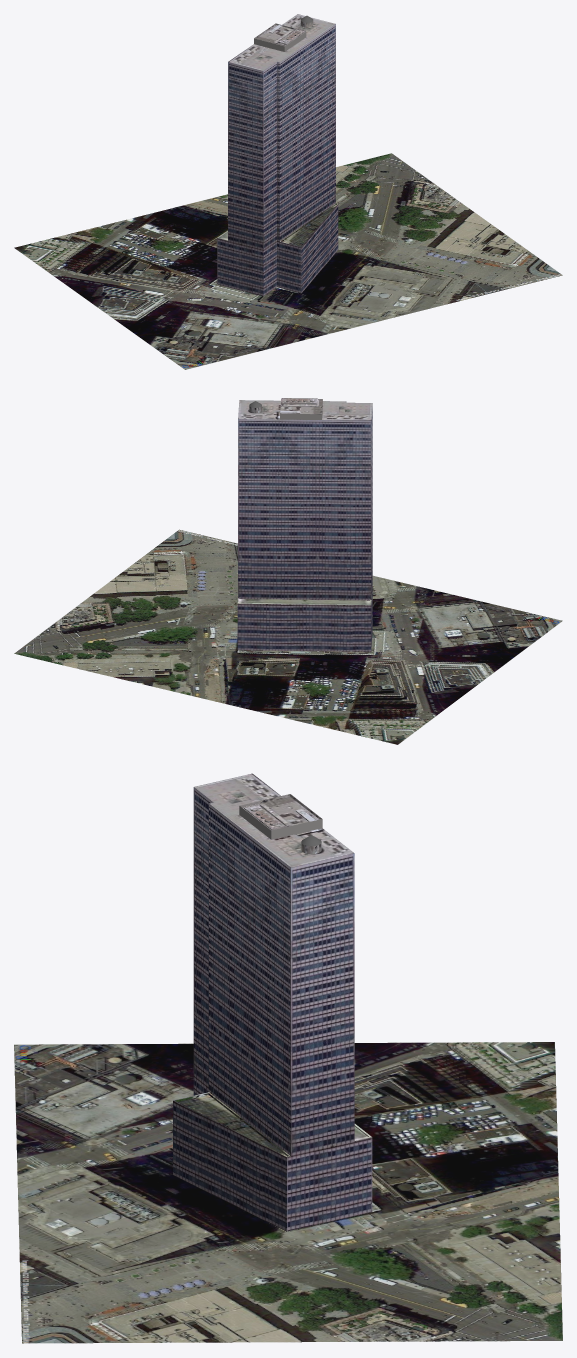
File: vvv.fbx
3 renders of one model, top to bottom at view 1: azimuth 30°, elevation 25°; view 2: azimuth 150°, elevation 25°; view 3: azimuth 270°, elevation 25°, orthographic. The views are drawn at different scales.
Visible parts, largest first — view 1: Google_Earth_Snapshot, G_200_Water_Street1; view 2: Google_Earth_Snapshot, G_200_Water_Street1; view 3: Google_Earth_Snapshot, G_200_Water_Street1.
Part boxes in pixels (box(x1,y1,x2,y2)): Google_Earth_Snapshot: box(14, 153, 562, 369); G_200_Water_Street1: box(217, 14, 338, 296); Google_Earth_Snapshot: box(14, 529, 562, 744); G_200_Water_Street1: box(237, 398, 372, 651); Google_Earth_Snapshot: box(14, 1042, 562, 1343); G_200_Water_Street1: box(173, 773, 372, 1231).
Bounding box in the file's own units: 9151 × 5352 × 7043.
